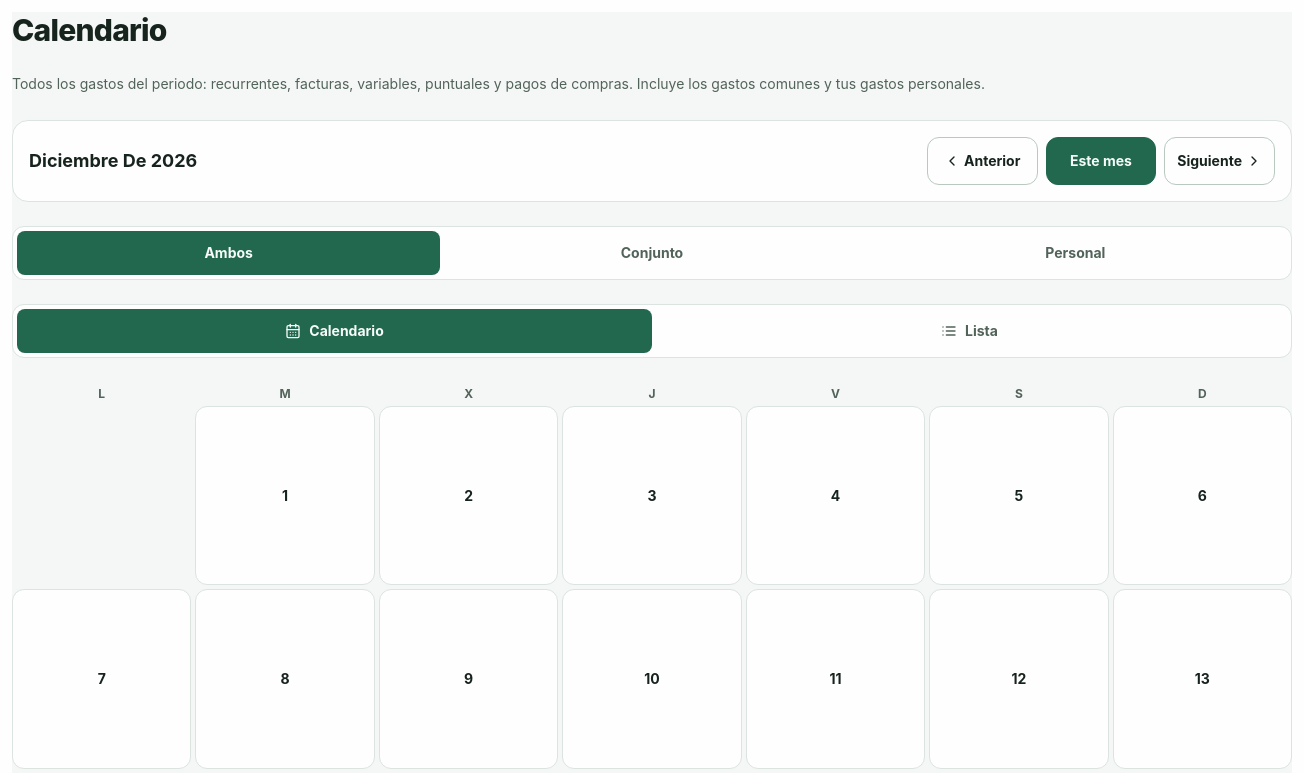
Test case: Calendario interactivo › crosses December into January without skipping a month on the 31st
Click the button with aria-label "Mes siguiente": x=1220, y=161 [1164, 137, 1275, 185]
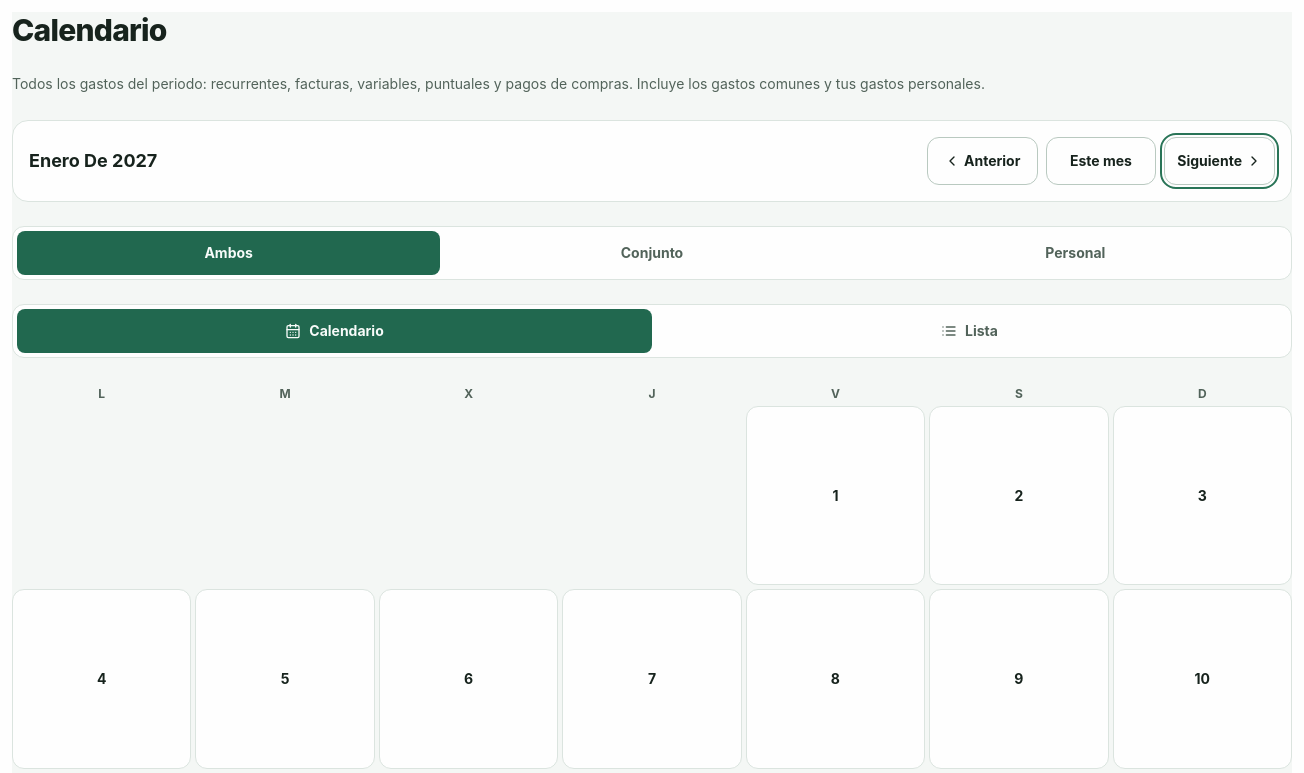
Expected: the heading "enero de 2027" is shown, [29, 147, 157, 175]
Click the button with aria-label "Mes anterior": x=982, y=161 [927, 137, 1038, 185]
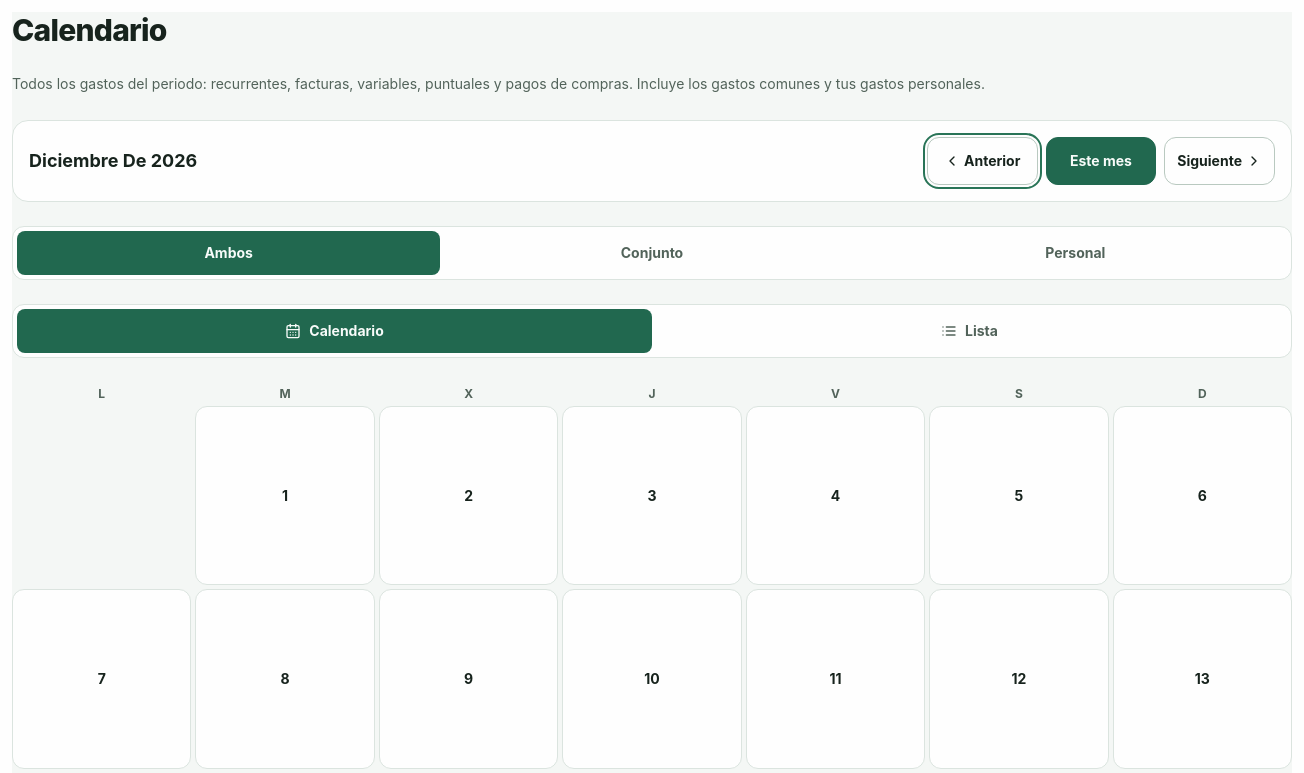
Expected: the heading "diciembre de 2026" is shown, [29, 147, 197, 175]
